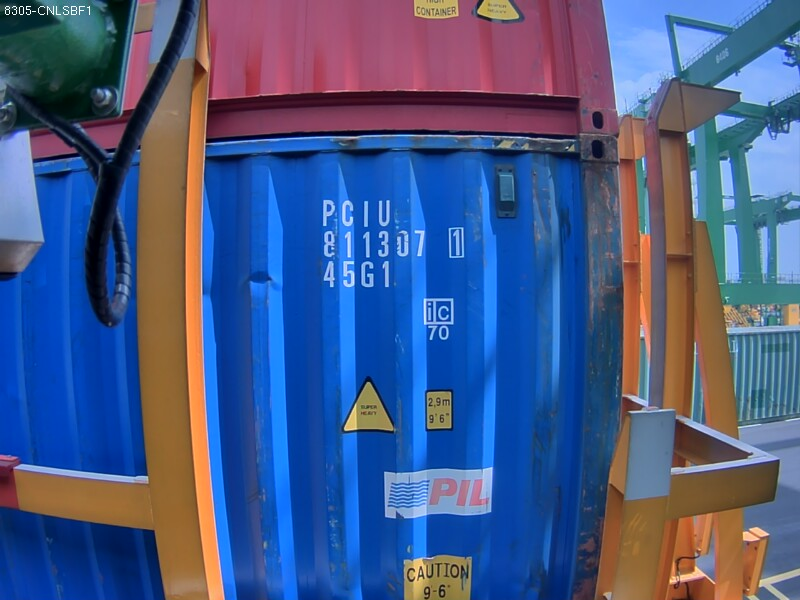container_no_door: (222, 126, 626, 600)
